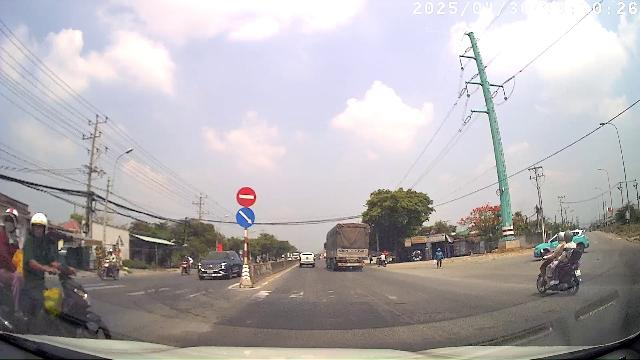102-cam-di-nguoc-chieu: (237, 187, 256, 206)
302a-huong-phai-di-vong-chuong-ngai-vat-1: (236, 208, 255, 227)
